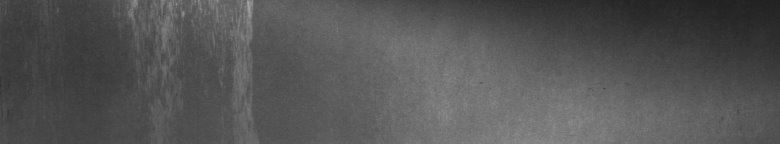ka: (121, 4, 260, 125)
